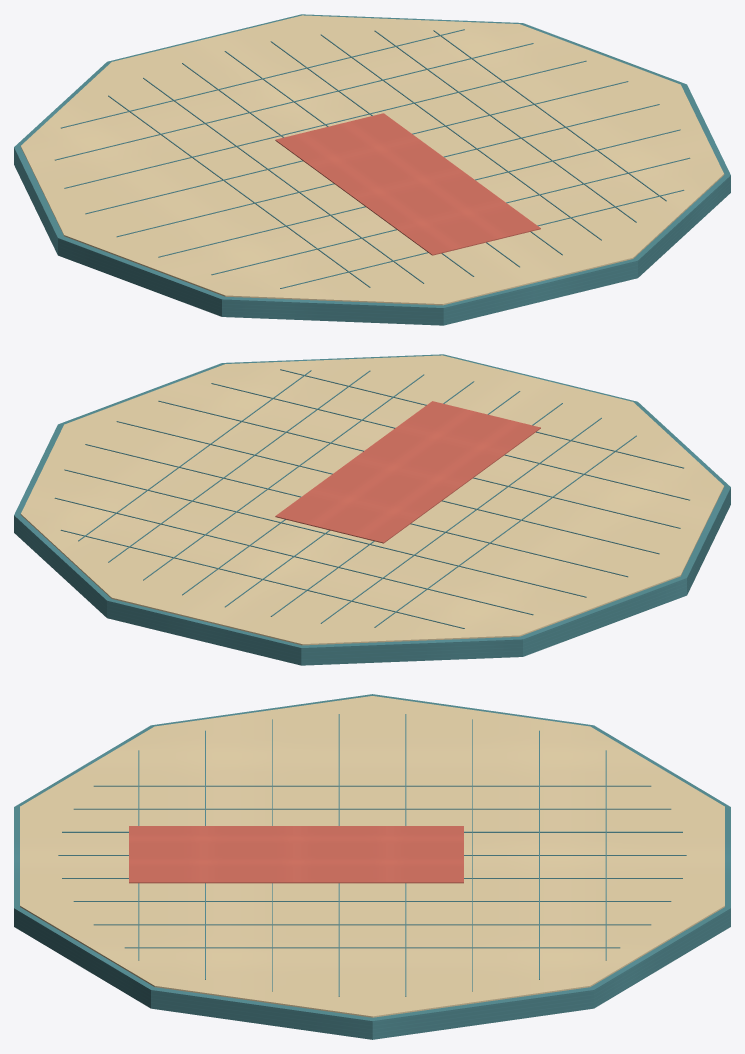
The model's file is atlas100-s075-a07.lod1.glb.
3 views of the same model, one above another, from view 1: azimuth 30°, elevation 25°; view 2: azimuth 150°, elevation 25°; view 3: azimuth 270°, elevation 25° (orthographic). The views are drawn at different scales.
Parts seen in each view (by area): view 1: atlas100-s075-a07:part-001, atlas100-s075-a07:part-000, atlas100-s075-a07:part-021, atlas100-s075-a07:part-015, atlas100-s075-a07:part-014, atlas100-s075-a07:part-017, atlas100-s075-a07:part-016, atlas100-s075-a07:part-018, atlas100-s075-a07:part-013, atlas100-s075-a07:part-019, atlas100-s075-a07:part-009, atlas100-s075-a07:part-005 (+3 smaller); view 2: atlas100-s075-a07:part-001, atlas100-s075-a07:part-000, atlas100-s075-a07:part-021, atlas100-s075-a07:part-015, atlas100-s075-a07:part-014, atlas100-s075-a07:part-016, atlas100-s075-a07:part-017, atlas100-s075-a07:part-018, atlas100-s075-a07:part-013, atlas100-s075-a07:part-019, atlas100-s075-a07:part-009, atlas100-s075-a07:part-005 (+3 smaller); view 3: atlas100-s075-a07:part-001, atlas100-s075-a07:part-000, atlas100-s075-a07:part-021, atlas100-s075-a07:part-005, atlas100-s075-a07:part-004, atlas100-s075-a07:part-010, atlas100-s075-a07:part-011, atlas100-s075-a07:part-009, atlas100-s075-a07:part-006.
Boxes of the visible parts, x1,y1,x2,y2 form: atlas100-s075-a07:part-001: (20, 15, 724, 305); atlas100-s075-a07:part-000: (14, 14, 730, 325); atlas100-s075-a07:part-021: (275, 113, 540, 255); atlas100-s075-a07:part-015: (64, 60, 586, 188); atlas100-s075-a07:part-014: (55, 43, 533, 160); atlas100-s075-a07:part-017: (116, 104, 659, 237); atlas100-s075-a07:part-016: (85, 81, 628, 214); atlas100-s075-a07:part-018: (158, 129, 680, 257); atlas100-s075-a07:part-013: (61, 29, 464, 128); atlas100-s075-a07:part-019: (211, 157, 690, 275); atlas100-s075-a07:part-009: (320, 34, 601, 240); atlas100-s075-a07:part-005: (143, 77, 424, 283); atlas100-s075-a07:part-001: (20, 355, 724, 645); atlas100-s075-a07:part-000: (14, 354, 730, 665); atlas100-s075-a07:part-021: (275, 401, 540, 543); atlas100-s075-a07:part-015: (64, 469, 586, 597); atlas100-s075-a07:part-014: (54, 497, 533, 615); atlas100-s075-a07:part-016: (85, 444, 628, 577); atlas100-s075-a07:part-017: (116, 421, 659, 554); atlas100-s075-a07:part-018: (158, 400, 680, 528); atlas100-s075-a07:part-013: (60, 529, 464, 628); atlas100-s075-a07:part-019: (211, 383, 689, 500); atlas100-s075-a07:part-009: (143, 374, 424, 580); atlas100-s075-a07:part-005: (320, 417, 601, 623); atlas100-s075-a07:part-001: (20, 696, 724, 1017); atlas100-s075-a07:part-000: (14, 694, 730, 1039); atlas100-s075-a07:part-021: (129, 826, 463, 883); atlas100-s075-a07:part-005: (73, 808, 671, 809); atlas100-s075-a07:part-004: (93, 785, 651, 786); atlas100-s075-a07:part-010: (93, 924, 651, 925); atlas100-s075-a07:part-011: (124, 947, 620, 948); atlas100-s075-a07:part-009: (73, 901, 671, 901); atlas100-s075-a07:part-006: (62, 831, 682, 832).
Size of the model in its own units: 12.75 by 0.404 by 11.81.
Materials: 3 (3 with a texture image).
